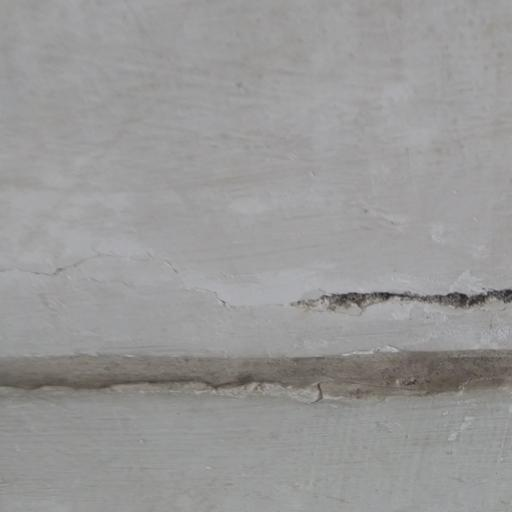major_crack: (0, 216, 512, 338)
